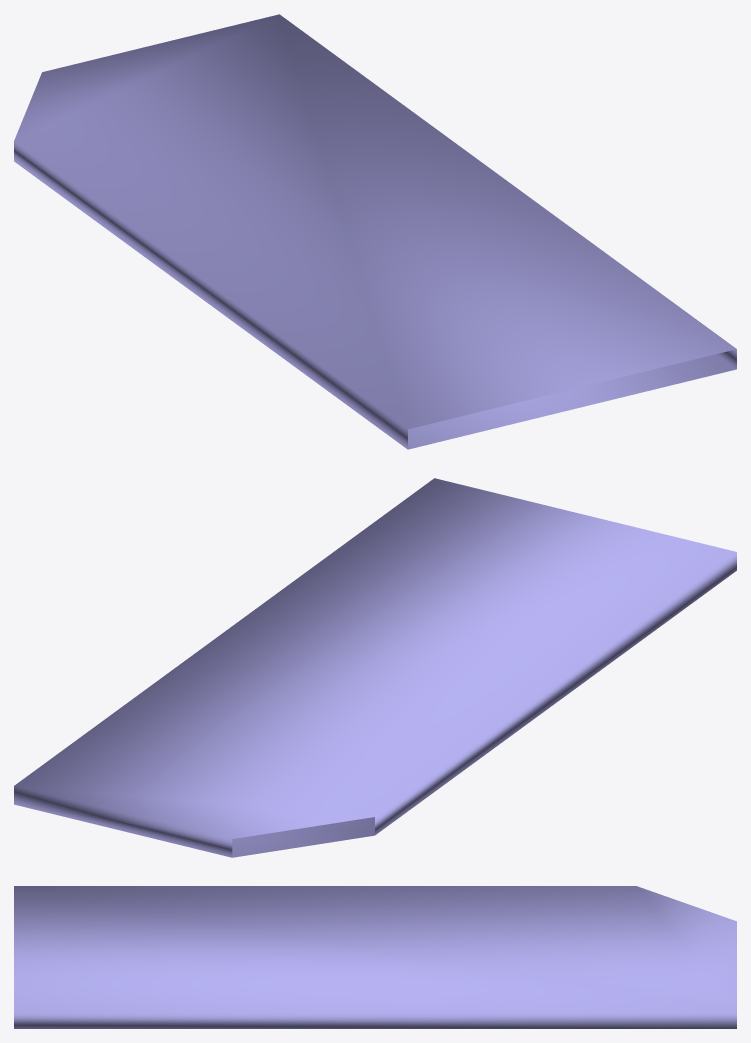
3 renders of one model, top to bottom at view 1: azimuth 30°, elevation 25°; view 2: azimuth 150°, elevation 25°; view 3: azimuth 270°, elevation 25°, orthographic. The views are drawn at different scales.
Parts seen in each view (by area): view 1: Object80; view 2: Object80; view 3: Object80.
Boxes of the visible parts, x1,y1,x2,y2 form: Object80: (14,14,736,449); Object80: (14,478,736,857); Object80: (14,886,736,1028).
Bounding box in the file's own units: 23886 × 1407 × 57503.
